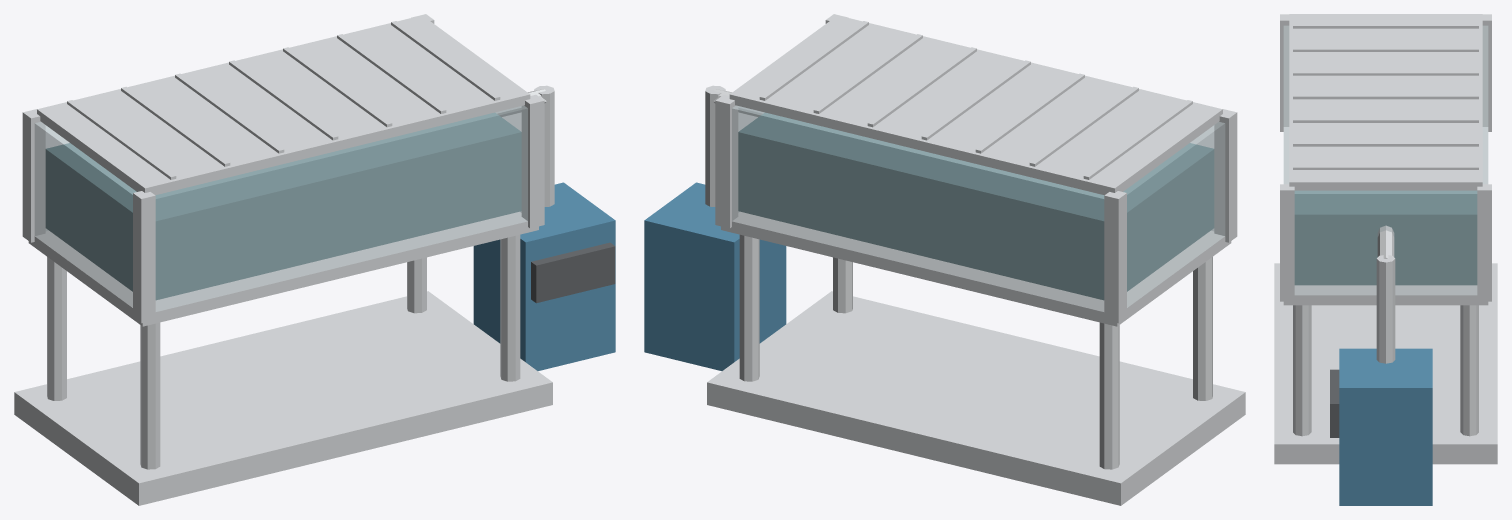
The model's file is fish-market-and-trawler-quay-fish-market-and-trawler-q-99a9bcb1__37307.glb.
3 views of the same model, side by side, from view 1: azimuth 30°, elevation 25°; view 2: azimuth 150°, elevation 25°; view 3: azimuth 270°, elevation 25° (orthographic). The views are drawn at different scales.
Parts seen in each view (by area): view 1: fish-market-and-trawler-quay-lobster-and-crab-tank; view 2: fish-market-and-trawler-quay-lobster-and-crab-tank; view 3: fish-market-and-trawler-quay-lobster-and-crab-tank.
Part boxes in pixels (box(x1,y1,x2,y2)): fish-market-and-trawler-quay-lobster-and-crab-tank: box(14, 14, 615, 505); fish-market-and-trawler-quay-lobster-and-crab-tank: box(644, 14, 1245, 505); fish-market-and-trawler-quay-lobster-and-crab-tank: box(1274, 14, 1497, 505).
Bounding box in the file's own units: 2.85 × 1.65 × 1.2.
